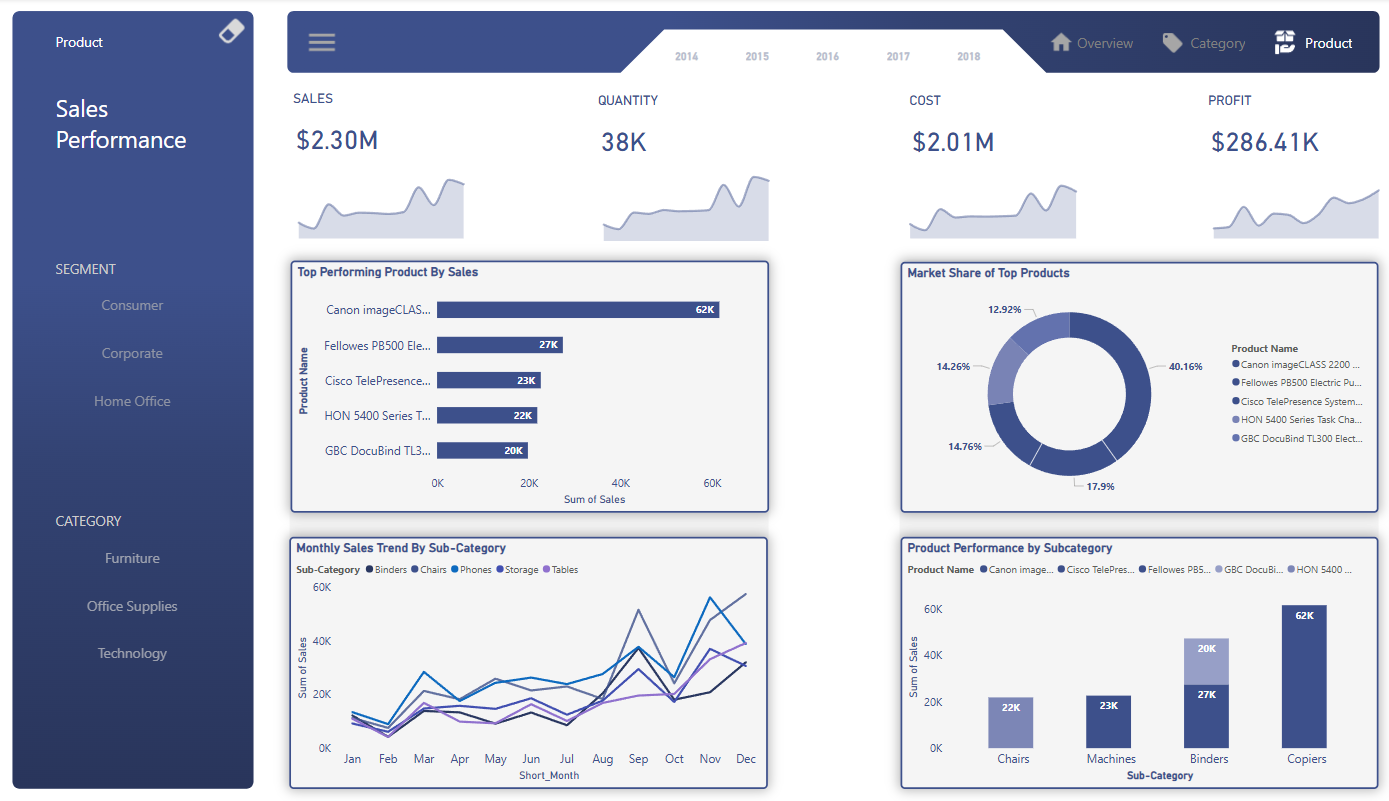

This screenshot's page, from the dashboard's own definition file:
{"tool":"powerbi","page":{"name":"Product","canvas":[1900,1100],"ordinal":2},"visuals":[{"type":"shape","box":[1225.5,355.6,652.4,721.5],"z":0},{"type":"actionButton","box":[1426,19,136,83],"z":1000},{"type":"actionButton","box":[1579,19,137,83.2],"z":2000},{"type":"actionButton","box":[1730,19.3,136,83],"z":3000},{"type":"listSlicer","title":"SEGMENT","fields":{"Values":["Order_Data.Segment"]},"box":[73.7,355.7,219.3,226.7],"z":4000},{"type":"listSlicer","title":"CATEGORY","fields":{"Values":["Order_Data.Category"]},"box":[73.7,698.6,219.3,224.9],"z":5000},{"type":"advancedSlicerVisual","fields":{"Values":["Order_Data.Ship Date.Variation.Date Hierarchy.Year"]},"box":[903.2,42.4,492.1,73.7],"z":6000},{"type":"textbox","box":[73.8,122.5,201.2,103.8],"z":7000},{"type":"textbox","box":[73.8,42.5,110,42.5],"z":8000},{"type":"shape","box":[397,355.6,652.4,721.5],"z":9000},{"type":"barChart","title":"Top Performing Product By Sales","fields":{"Y":["Sum(Order_Data.Sales)"],"Category":["Order_Data.Product Name"]},"box":[397.2,356.5,651,343],"z":10000},{"type":"columnChart","title":"Product Performance by Subcategory","fields":{"Category":["Order_Data.Sub-Category"],"Y":["Sum(Order_Data.Sales)"],"Series":["Order_Data.Product Name"]},"box":[1227.2,733.6,650.7,343.5],"z":11000},{"type":"donutChart","title":"Market Share of Top Products","fields":{"Y":["Sum(Order_Data.Sales)"],"Category":["Order_Data.Product Name"]},"box":[1227.2,359,650.7,341.8],"z":12000},{"type":"lineChart","title":"Monthly Sales Trend By Sub-Category","fields":{"Category":["Order_Data.Short_Month"],"Series":["Order_Data.Sub-Category"],"Y":["Sum(Order_Data.Sales)"]},"box":[397,733.6,651,343.5],"z":13000},{"type":"cardVisual","title":"QUANTITY","fields":{"Data":["Sum(Order_Data.Quantity)"]},"box":[810.9,129,237.8,103],"z":14000},{"type":"cardVisual","title":"SALES","fields":{"Data":["Sum(Order_Data.Sales)"]},"box":[396.3,125.3,237.8,103.2],"z":15000},{"type":"lineChart","fields":{"Y":["Sum(Order_Data.Sales)"],"Category":["Order_Data.Order Date.Variation.Date Hierarchy.Month"]},"box":[396.3,223.6,250.7,110.6],"z":16000},{"type":"lineChart","fields":{"Category":["Order_Data.Order Date.Variation.Date Hierarchy.Month"],"Y":["Sum(Order_Data.Quantity)"]},"box":[811,226.1,250.7,110.6],"z":17000},{"type":"cardVisual","title":"COST","fields":{"Data":["Order_Data.Cost"]},"box":[1234.9,129,237.8,103.2],"z":18000},{"type":"lineChart","fields":{"Category":["Order_Data.Order Date.Variation.Date Hierarchy.Month"],"Y":["Order_Data.Cost"]},"box":[1227.6,223,252.5,110.6],"z":19000},{"type":"cardVisual","title":"PROFIT","fields":{"Data":["Sum(Order_Data.Profit)"]},"box":[1640.4,129,237.8,103.2],"z":20000},{"type":"lineChart","fields":{"Category":["Order_Data.Order Date.Variation.Date Hierarchy.Month"],"Y":["Sum(Order_Data.Profit)"]},"box":[1640.4,223,250.7,110.6],"z":21000},{"type":"actionButton","box":[292.5,18.7,59.5,51],"z":22000},{"type":"actionButton","box":[412.5,27.5,55,66.2],"z":23000}]}

Visuals, with their boxes in screenshot pixels (x1, y1, x2, y2), scaled from the page's 1900x1100 canvas onto the 1389x801 screenshot:
shape: x1=896 y1=259 x2=1373 y2=784
actionButton: x1=1042 y1=14 x2=1142 y2=74
actionButton: x1=1154 y1=14 x2=1254 y2=74
actionButton: x1=1265 y1=14 x2=1364 y2=74
"SEGMENT" listSlicer: x1=54 y1=259 x2=214 y2=424
"CATEGORY" listSlicer: x1=54 y1=509 x2=214 y2=672
advancedSlicerVisual - Order_Data.Ship Date.Variation.Date Hierarchy.Year: x1=660 y1=31 x2=1020 y2=85
textbox: x1=54 y1=89 x2=201 y2=165
textbox: x1=54 y1=31 x2=134 y2=62
shape: x1=290 y1=259 x2=767 y2=784
"Top Performing Product By Sales" barChart: x1=290 y1=260 x2=766 y2=509
"Product Performance by Subcategory" columnChart: x1=897 y1=534 x2=1373 y2=784
"Market Share of Top Products" donutChart: x1=897 y1=261 x2=1373 y2=510
"Monthly Sales Trend By Sub-Category" lineChart: x1=290 y1=534 x2=766 y2=784
"QUANTITY" cardVisual: x1=593 y1=94 x2=767 y2=169
"SALES" cardVisual: x1=290 y1=91 x2=464 y2=166
lineChart - Sum(Order_Data.Sales) x Order_Data.Order Date.Variation.Date Hierarchy.Month: x1=290 y1=163 x2=473 y2=243
lineChart - Order_Data.Order Date.Variation.Date Hierarchy.Month x Sum(Order_Data.Quantity): x1=593 y1=165 x2=776 y2=245
"COST" cardVisual: x1=903 y1=94 x2=1077 y2=169
lineChart - Order_Data.Order Date.Variation.Date Hierarchy.Month x Order_Data.Cost: x1=897 y1=162 x2=1082 y2=243
"PROFIT" cardVisual: x1=1199 y1=94 x2=1373 y2=169
lineChart - Order_Data.Order Date.Variation.Date Hierarchy.Month x Sum(Order_Data.Profit): x1=1199 y1=162 x2=1382 y2=243
actionButton: x1=214 y1=14 x2=257 y2=51
actionButton: x1=302 y1=20 x2=342 y2=68
